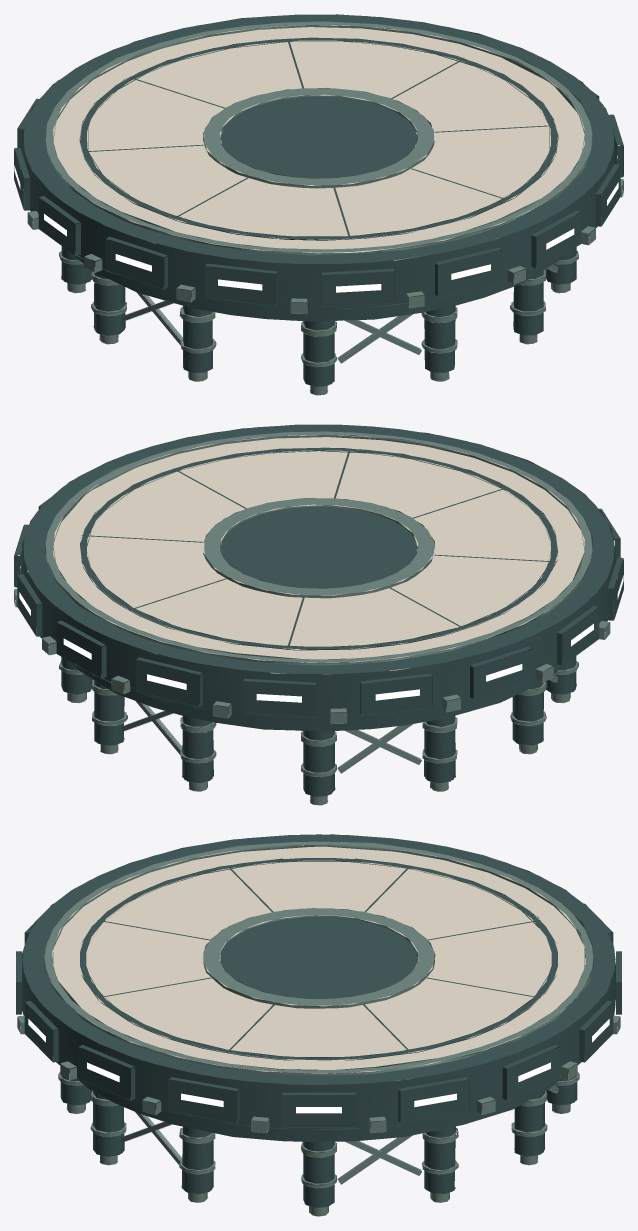
Rendered from Platform_Standard_lab.glb.
3 views of the same model, one above another, from view 1: azimuth 30°, elevation 25°; view 2: azimuth 150°, elevation 25°; view 3: azimuth 270°, elevation 25° (orthographic).
Visible parts, largest first — view 1: Platform_Standard; view 2: Platform_Standard; view 3: Platform_Standard.
Boxes of the visible parts, x1,y1,x2,y2 form: Platform_Standard: [14, 14, 623, 395]; Platform_Standard: [14, 424, 623, 805]; Platform_Standard: [16, 834, 621, 1216].
Size of the model in its own units: 12.32 by 3.67 by 12.32.
